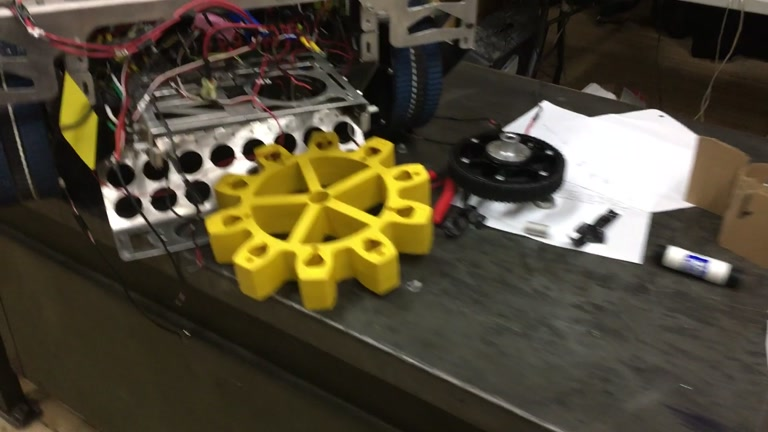gear: (204, 133, 433, 310)
